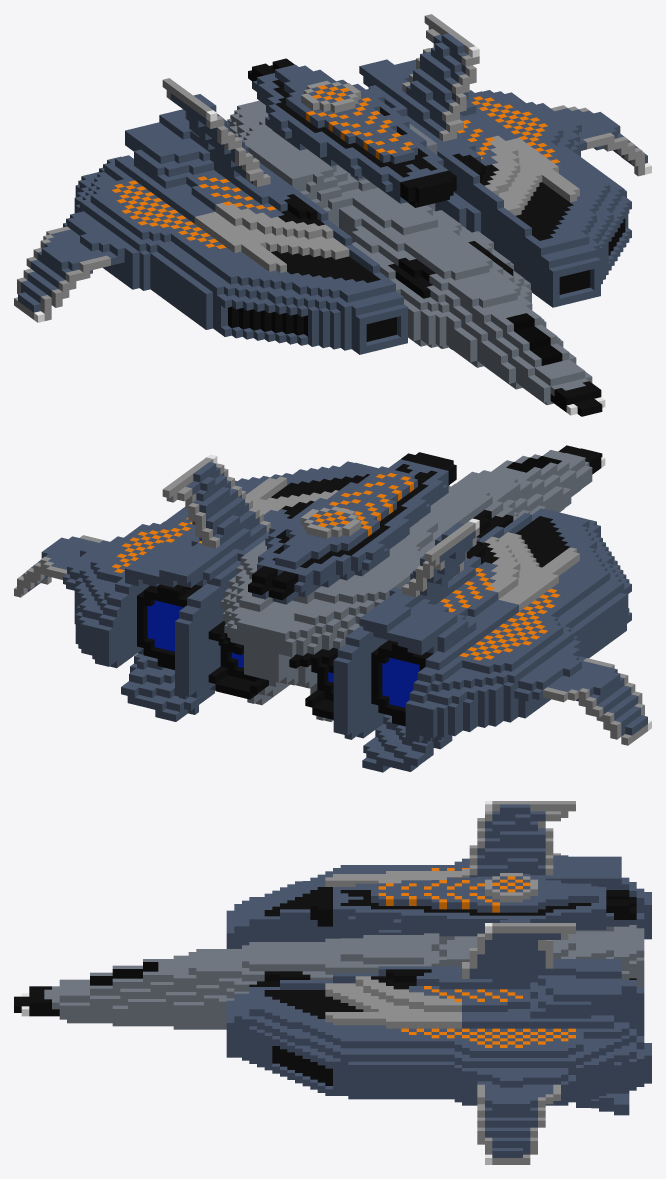
The model's file is Spaceship1.obj.
The picture shows the model from 3 angles, top to bottom: view 1: azimuth 30°, elevation 25°; view 2: azimuth 150°, elevation 25°; view 3: azimuth 270°, elevation 25°; orthographic projection. The views are drawn at different scales.
Visible parts, largest first — view 1: Spaceship1_Spaceships.040; view 2: Spaceship1_Spaceships.040; view 3: Spaceship1_Spaceships.040.
Part boxes in pixels (x1,y1,x2,y2): Spaceship1_Spaceships.040: [14, 14, 651, 416]; Spaceship1_Spaceships.040: [14, 445, 651, 772]; Spaceship1_Spaceships.040: [14, 801, 651, 1164].
Size of the model in its own units: 8.9 by 2.8 by 8.4.
